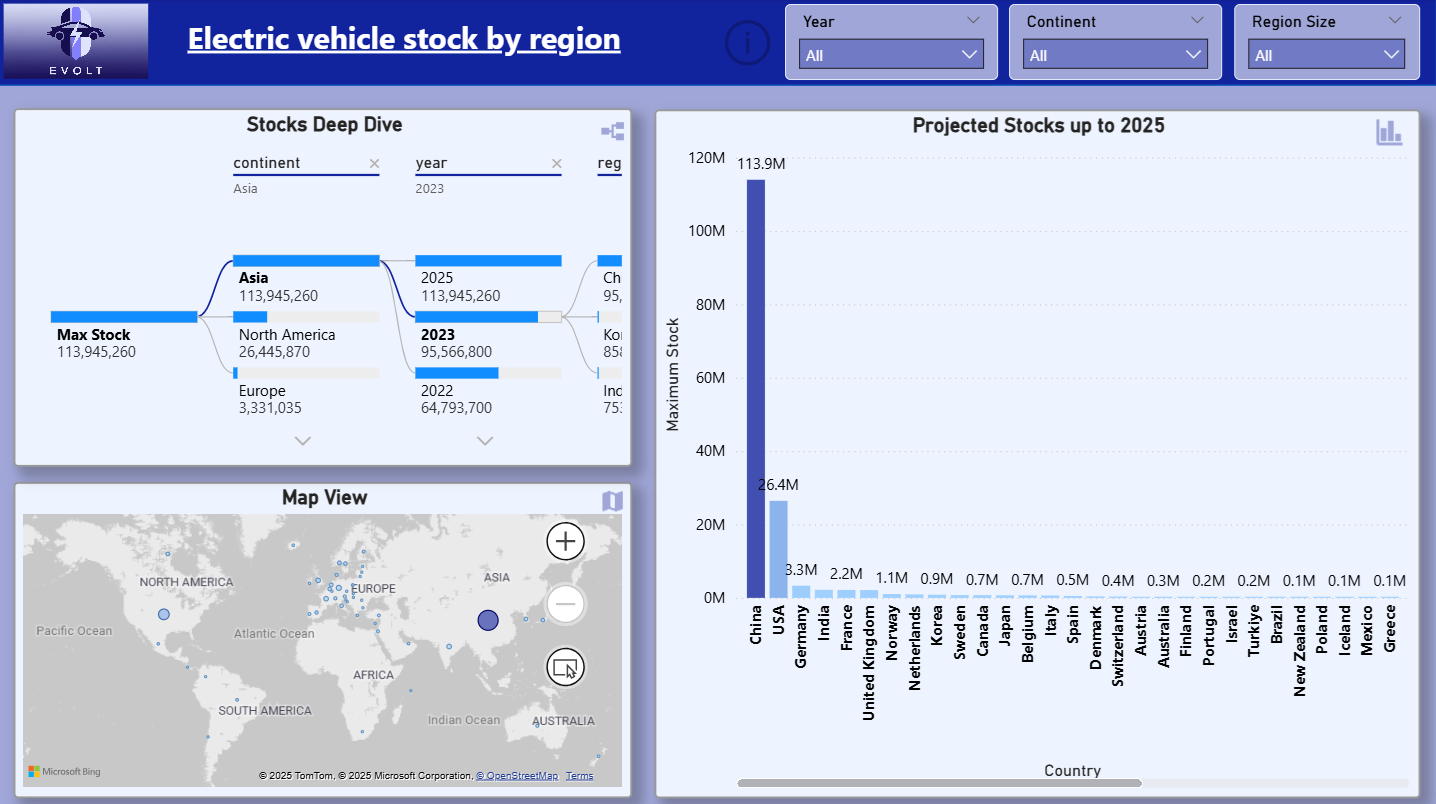

Layout of this report page (visuals, bound fields, positions):
{"tool":"powerbi","page":{"name":"Stocks by Region","canvas":[1280,720],"ordinal":0},"visuals":[{"type":"shape","box":[0,0,1279.6,78.1],"z":0},{"type":"decompositionTreeVisual","title":"Stocks Deep Dive","fields":{"ExplainBy":["EV_Data.Continent","EV_Data.year","EV_Data.region"],"Analyze":["Max(EV_Data.Total_Stock)"]},"box":[14.1,98.8,550.2,318.6],"z":0,"group":"g3"},{"type":"slicer","fields":{"Values":["EV_Data.Region_Size"]},"box":[1099.2,5.1,165.1,67.8],"z":1000},{"type":"image","box":[529.8,98.5,34.6,40.9],"z":1000,"group":"g3"},{"type":"clusteredColumnChart","title":"Projected Stocks up to 2025","fields":{"Category":["EV_Data.region"],"Y":["Max(EV_Data.Total_Stock)"]},"box":[583.5,98.8,680.8,612.9],"z":1000,"group":"g1"},{"type":"textbox","box":[138.2,11.5,445.3,56.3],"z":2000},{"type":"map","title":"Map View","fields":{"Size":["Max(EV_Data.Total_Stock)"],"Category":["EV_Data.region"]},"box":[14.1,430.2,550.2,281.5],"z":2000,"group":"g2"},{"type":"group","id":"g1","title":"Group 1","box":[583.5,98.8,680.8,612.9],"z":3000},{"type":"slicer","fields":{"Values":["EV_Data.Continent"]},"box":[899.6,5.1,189.4,67.8],"z":4000},{"type":"image","box":[1210.1,98.8,54.1,40.9],"z":4002,"group":"g1"},{"type":"group","id":"g2","title":"Group 2","box":[14.1,430.2,550.2,281.5],"z":5000},{"type":"group","id":"g3","title":"Group 3","box":[14.1,98.5,550.2,318.9],"z":6000},{"type":"image","box":[529.5,430.2,34.9,34.6],"z":6000,"group":"g2"},{"type":"slicer","fields":{"Values":["EV_Data.year"]},"box":[700,5.1,189.4,67.8],"z":7000},{"type":"actionButton","box":[639.8,11.5,52.5,56.3],"z":8000},{"type":"image","box":[0,0,138.2,76.8],"z":9000}]}

Visuals, with their boxes in screenshot pixels (x1, y1, x2, y2), scaled from the page's 1280x720 canvas onto the 1436x804 screenshot:
shape: x1=0 y1=0 x2=1435 y2=87
"Stocks Deep Dive" decompositionTreeVisual: x1=16 y1=110 x2=633 y2=466
slicer - EV_Data.Region_Size: x1=1233 y1=6 x2=1418 y2=81
image: x1=594 y1=110 x2=633 y2=156
"Projected Stocks up to 2025" clusteredColumnChart: x1=655 y1=110 x2=1418 y2=795
textbox: x1=155 y1=13 x2=655 y2=76
"Map View" map: x1=16 y1=480 x2=633 y2=795
"Group 1" group: x1=655 y1=110 x2=1418 y2=795
slicer - EV_Data.Continent: x1=1009 y1=6 x2=1222 y2=81
image: x1=1358 y1=110 x2=1418 y2=156
"Group 2" group: x1=16 y1=480 x2=633 y2=795
"Group 3" group: x1=16 y1=110 x2=633 y2=466
image: x1=594 y1=480 x2=633 y2=519
slicer - EV_Data.year: x1=785 y1=6 x2=998 y2=81
actionButton: x1=718 y1=13 x2=777 y2=76
image: x1=0 y1=0 x2=155 y2=86
